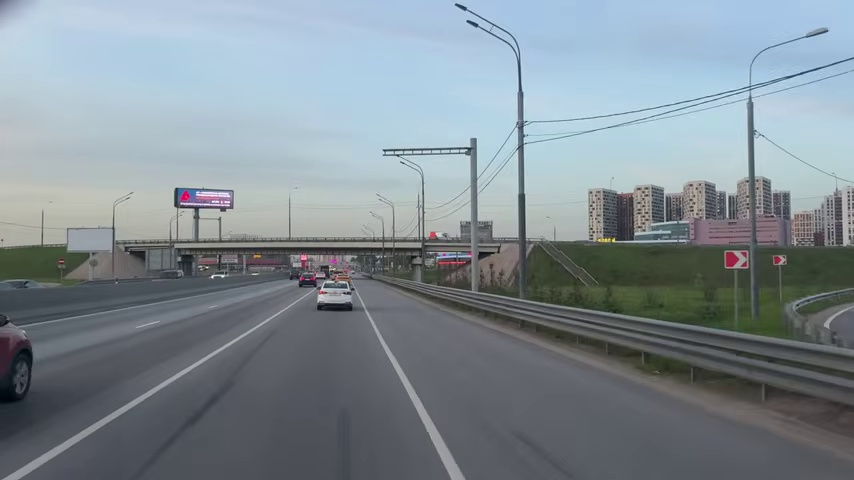apagada: (451, 2, 481, 31), (381, 147, 408, 168), (806, 27, 828, 40)
